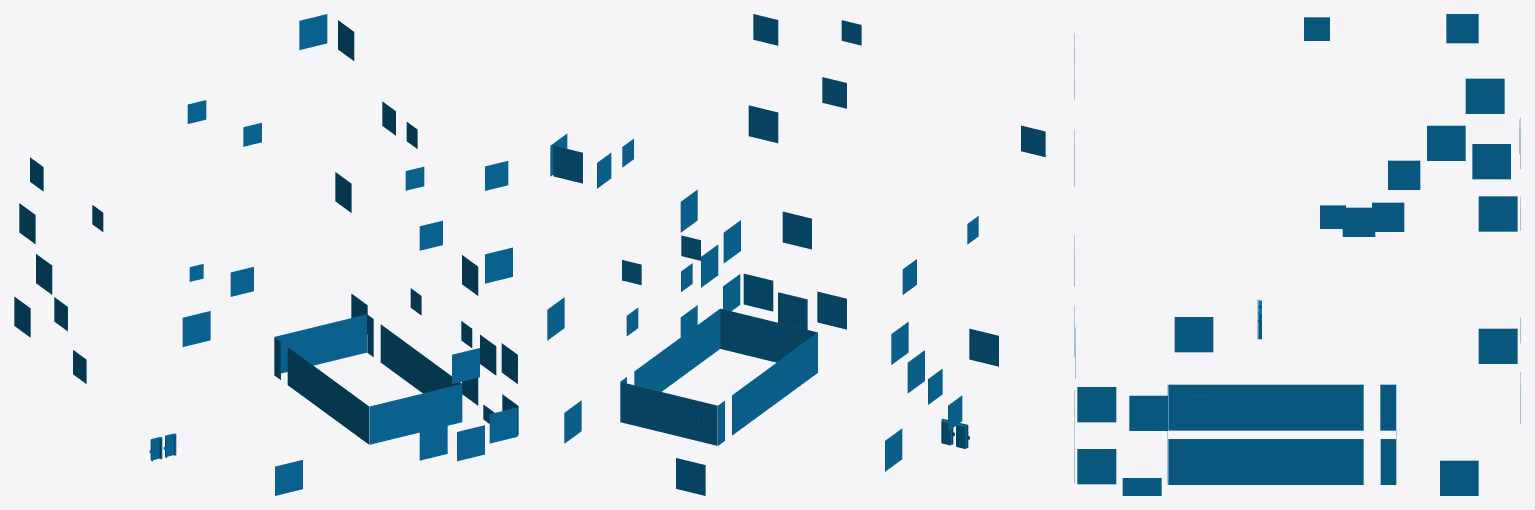
Rendered from Zoll_Base_Version3_Level_1_IfcPlate.dae.
3 renders of one model, left to right at view 1: azimuth 30°, elevation 25°; view 2: azimuth 150°, elevation 25°; view 3: azimuth 270°, elevation 25°, orthographic. The views are drawn at different scales.
Visible parts, largest first — view 1: 2eQAkgtmr7OOnUGGEDt$NY, 2eQAkgtmr7OOnUGGEDt$Na, 2eQAkgtmr7OOnUGGEDt_eN, 2eQAkgtmr7OOnUGGEDt_eL, 2eQAkgtmr7OOnUGGEDt_eP, 2eQAkgtmr7OOnUGGEDt$Ng, 2eQAkgtmr7OOnUGGEDt$Nc, 2eQAkgtmr7OOnUGGEDt$Ne; view 2: 2eQAkgtmr7OOnUGGEDt_eL, 2eQAkgtmr7OOnUGGEDt$Nc, 2eQAkgtmr7OOnUGGEDt$Ne, 2eQAkgtmr7OOnUGGEDt_eP, 2eQAkgtmr7OOnUGGEDt_eT, 2eQAkgtmr7OOnUGGEDt$Ng, 2eQAkgtmr7OOnUGGEDt_eN, 2eQAkgtmr7OOnUGGEDt$Na; view 3: 2eQAkgtmr7OOnUGGEDt$ND, 2eQAkgtmr7OOnUGGEDt$NJ, 2eQAkgtmr7OOnUGGEDt$Ny, 2eQAkgtmr7OOnUGGEDt_e2, 2eQAkgtmr7OOnUGGEDt$NF, 2eQAkgtmr7OOnUGGEDt$NH, 2eQAkgtmr7OOnUGGEDt$N_, 2eQAkgtmr7OOnUGGEDt_e0, 2eQAkgtmr7OOnUGGEDt_e4, 2eQAkgtmr7OOnUGGEDt_e6, 2eQAkgtmr7OOnUGGEDt$N9, 2eQAkgtmr7OOnUGGEDt$NN (+34 smaller).
Part boxes in pixels (x1,y1,x2,y2): 2eQAkgtmr7OOnUGGEDt$NY: (376,403,393,442); 2eQAkgtmr7OOnUGGEDt$Na: (393,399,410,438); 2eQAkgtmr7OOnUGGEDt_eN: (325,323,342,362); 2eQAkgtmr7OOnUGGEDt_eL: (342,318,359,358); 2eQAkgtmr7OOnUGGEDt_eP: (308,327,325,365); 2eQAkgtmr7OOnUGGEDt$Ng: (445,386,461,425); 2eQAkgtmr7OOnUGGEDt$Nc: (411,395,427,434); 2eQAkgtmr7OOnUGGEDt$Ne: (428,390,444,428); 2eQAkgtmr7OOnUGGEDt_eL: (627,386,645,428); 2eQAkgtmr7OOnUGGEDt$Nc: (756,320,774,361); 2eQAkgtmr7OOnUGGEDt$Ne: (738,316,756,357); 2eQAkgtmr7OOnUGGEDt_eP: (663,395,681,436); 2eQAkgtmr7OOnUGGEDt_eT: (699,404,717,445); 2eQAkgtmr7OOnUGGEDt$Ng: (720,311,738,352); 2eQAkgtmr7OOnUGGEDt_eN: (645,391,663,432); 2eQAkgtmr7OOnUGGEDt$Na: (774,324,792,362); 2eQAkgtmr7OOnUGGEDt$ND: (1286,387,1310,430); 2eQAkgtmr7OOnUGGEDt$NJ: (1215,387,1239,430); 2eQAkgtmr7OOnUGGEDt$Ny: (1221,442,1245,484); 2eQAkgtmr7OOnUGGEDt_e2: (1292,442,1316,484); 2eQAkgtmr7OOnUGGEDt$NF: (1263,387,1286,430); 2eQAkgtmr7OOnUGGEDt$NH: (1239,387,1262,430); 2eQAkgtmr7OOnUGGEDt$N_: (1245,442,1268,484); 2eQAkgtmr7OOnUGGEDt_e0: (1269,442,1292,484); 2eQAkgtmr7OOnUGGEDt_e4: (1316,442,1339,484); 2eQAkgtmr7OOnUGGEDt_e6: (1340,442,1363,484); 2eQAkgtmr7OOnUGGEDt$N9: (1334,387,1357,430); 2eQAkgtmr7OOnUGGEDt$NN: (1168,387,1191,430).
Size of the model in its own units: 34.49 by 34.49 by 31.04.
